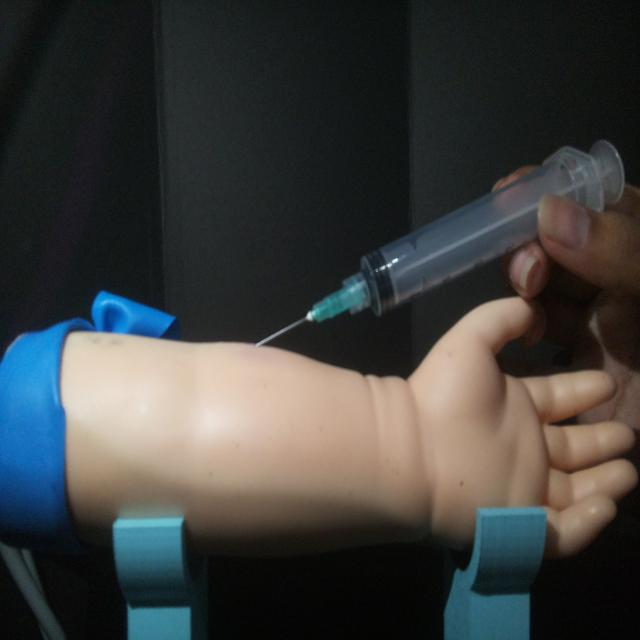25deg: (249, 134, 627, 351)
